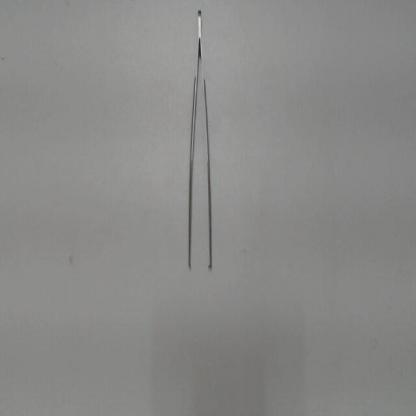Gillies Toothed Dissector: (182, 5, 222, 276)
